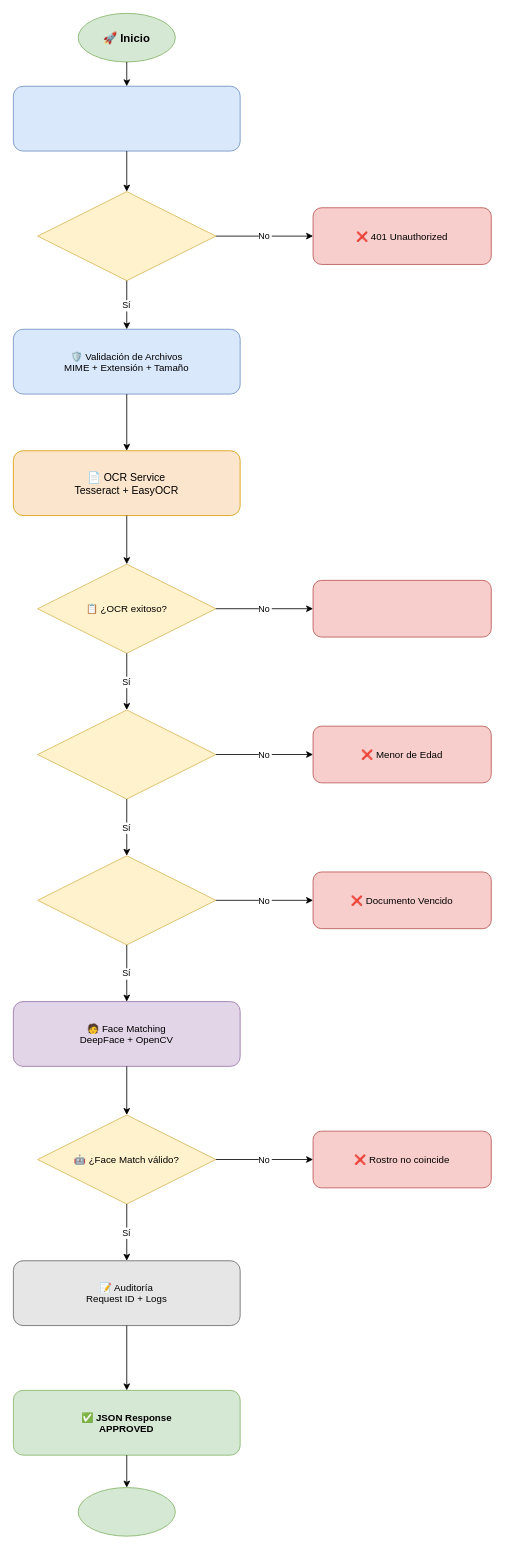
Some shapes in this 505 by 1550 pixel diagram are drawn without their labels. Each missing label, with the centre of its shape:
"❌ Documento ilegible" goes at [401,608].
"🎂 ¿Mayor de edad?" goes at [126,754].
"🏁 Fin" goes at [126,1511].
"👤 Cliente JWT + DNI + Selfie" goes at [126,118].
"📅 ¿Documento vigente?" goes at [126,900].
"🔐 ¿JWT válido?" goes at [126,236].
